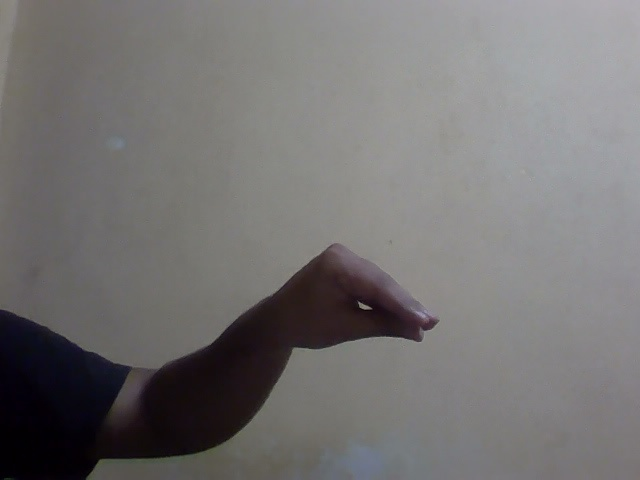No: (214, 229, 458, 405)
